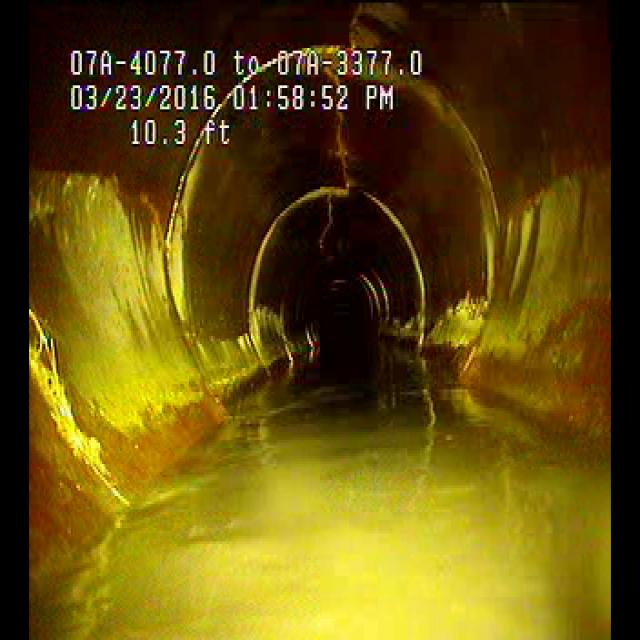Crack: (315, 56, 360, 256)
